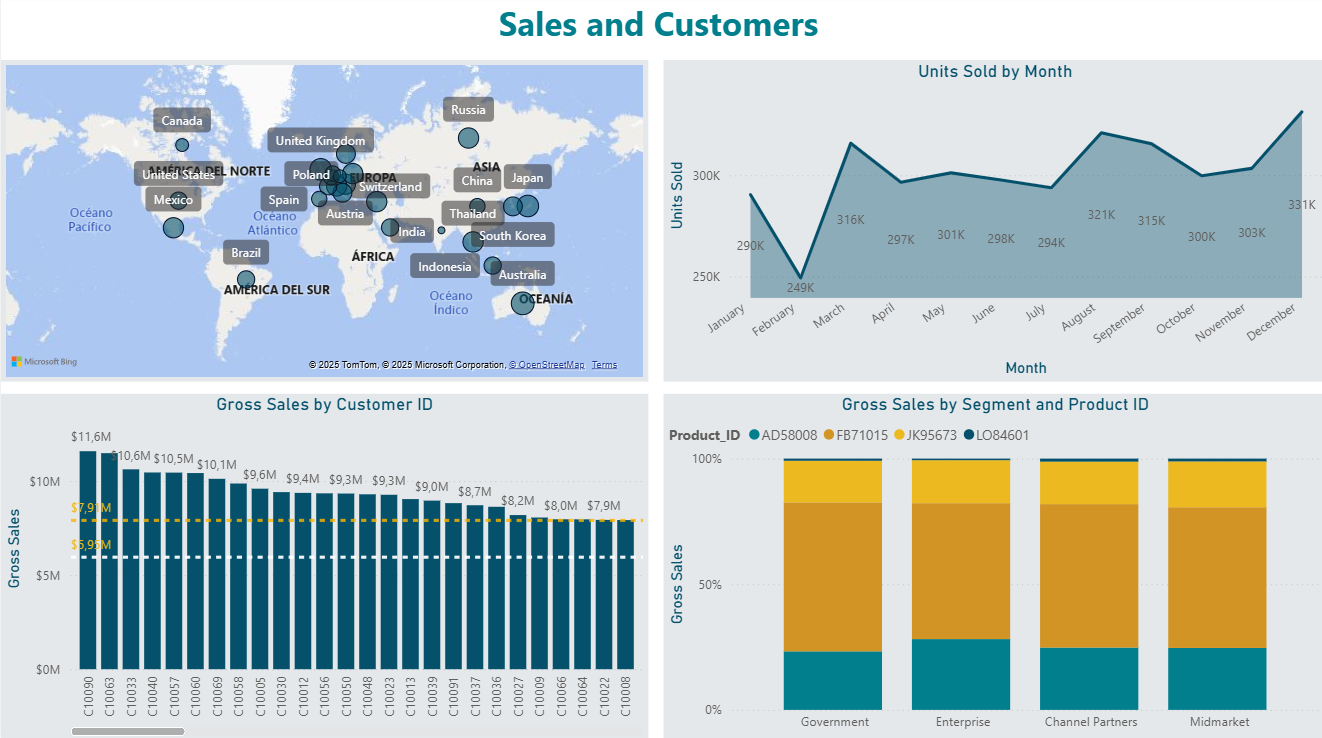

The page's visual inventory and layout, read from the dashboard file:
{"tool":"powerbi","page":{"name":"Sales and customers","canvas":[1280,720],"ordinal":1},"visuals":[{"type":"map","fields":{"Category":["Customer_Dim.Country"],"Size":["CountNonNull(Customer_Dim.Customer_ID)"]},"box":[0,62.4,624.9,310.6],"z":0},{"type":"stackedAreaChart","fields":{"Category":["Dates.Date.Variation.Date Hierarchy.Year","Dates.Date.Variation.Date Hierarchy.Quarter","Dates.Date.Variation.Date Hierarchy.Month","Dates.Date.Variation.Date Hierarchy.Day"],"Y":["Sum(Sales_Fact.Units Sold)"]},"box":[639.5,62.4,640.8,310.6],"z":1000},{"type":"clusteredColumnChart","title":"Gross Sales by Customer ID","fields":{"Category":["Customer_Dim.Customer_ID"],"Y":["Sum(Sales_Fact.Gross Sales)"]},"box":[0,385.2,624.9,335.1],"z":2000},{"type":"hundredPercentStackedColumnChart","title":"Gross Sales by Segment and Product ID","fields":{"Category":["Customer_Dim.Segment"],"Y":["Sum(Sales_Fact.Gross Sales)"],"Series":["Sales_Fact.Product_ID"]},"box":[639.5,385.2,640.8,335.1],"z":3000},{"type":"textbox","box":[475.7,0,348.5,62.4],"z":4000}]}

Visuals, with their boxes in screenshot pixels (x1, y1, x2, y2), scaled from the page's 1280x720 canvas onto the 1322x738 screenshot:
map - Customer_Dim.Country x CountNonNull(Customer_Dim.Customer_ID): [left=0, top=64, right=645, bottom=382]
stackedAreaChart - Dates.Date.Variation.Date Hierarchy.Year x Dates.Date.Variation.Date Hierarchy.Quarter: [left=660, top=64, right=1321, bottom=382]
"Gross Sales by Customer ID" clusteredColumnChart: [left=0, top=395, right=645, bottom=737]
"Gross Sales by Segment and Product ID" hundredPercentStackedColumnChart: [left=660, top=395, right=1321, bottom=737]
textbox: [left=491, top=0, right=851, bottom=64]
